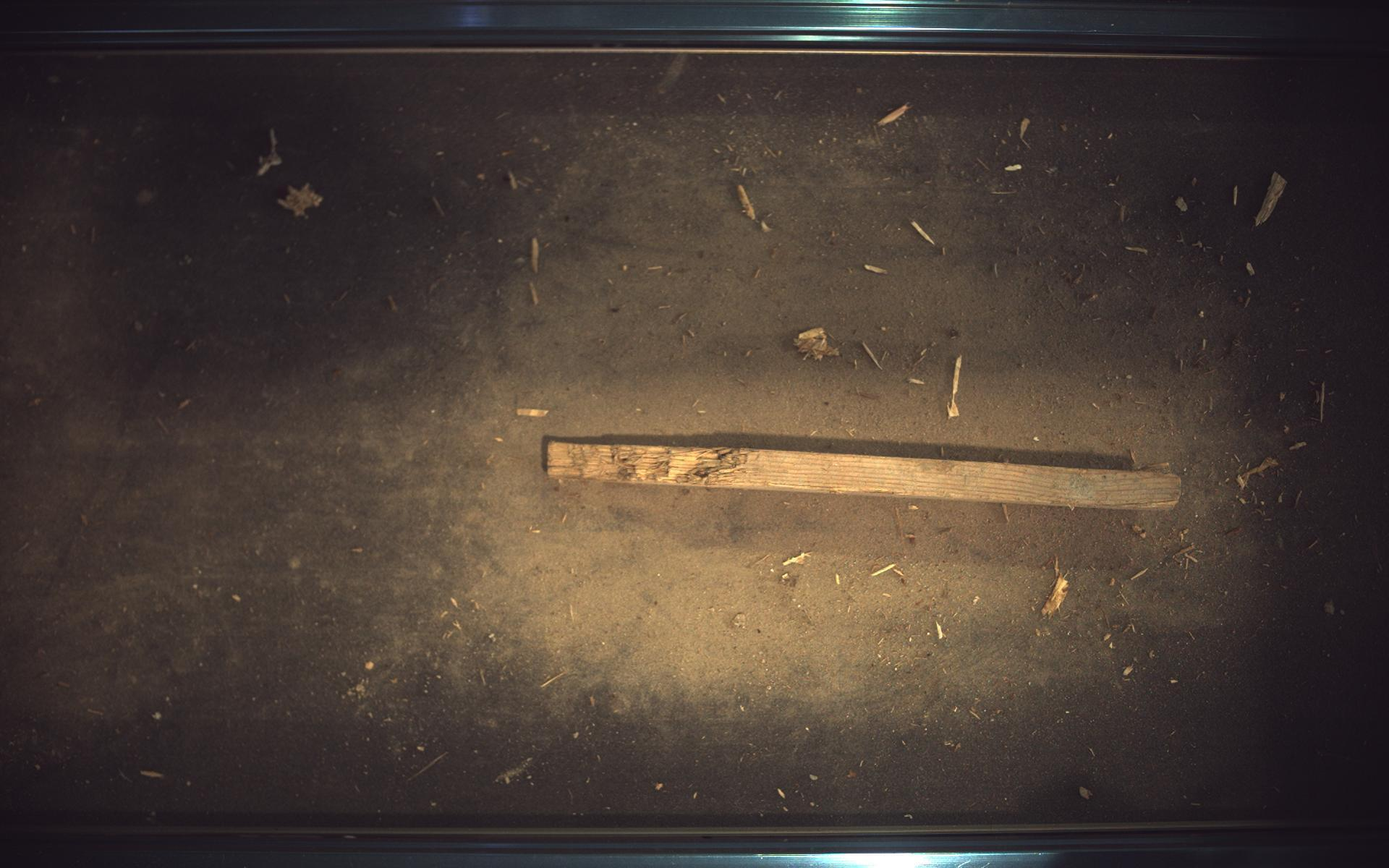wood: (546, 440, 1184, 510)
